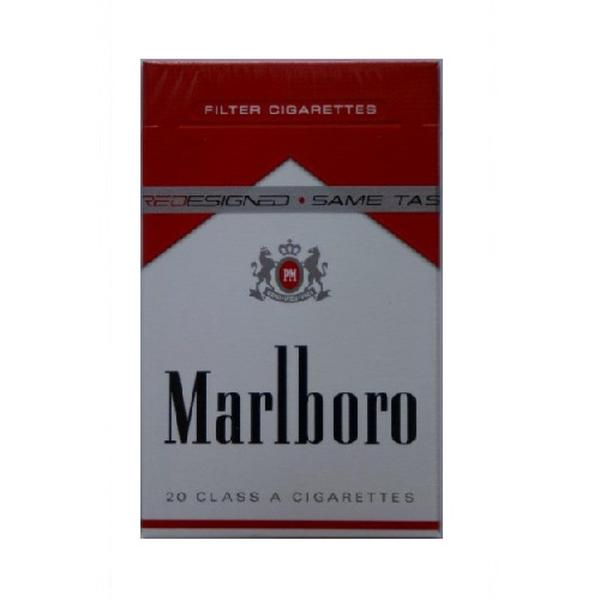marlboro_red: (145, 66, 442, 539)
